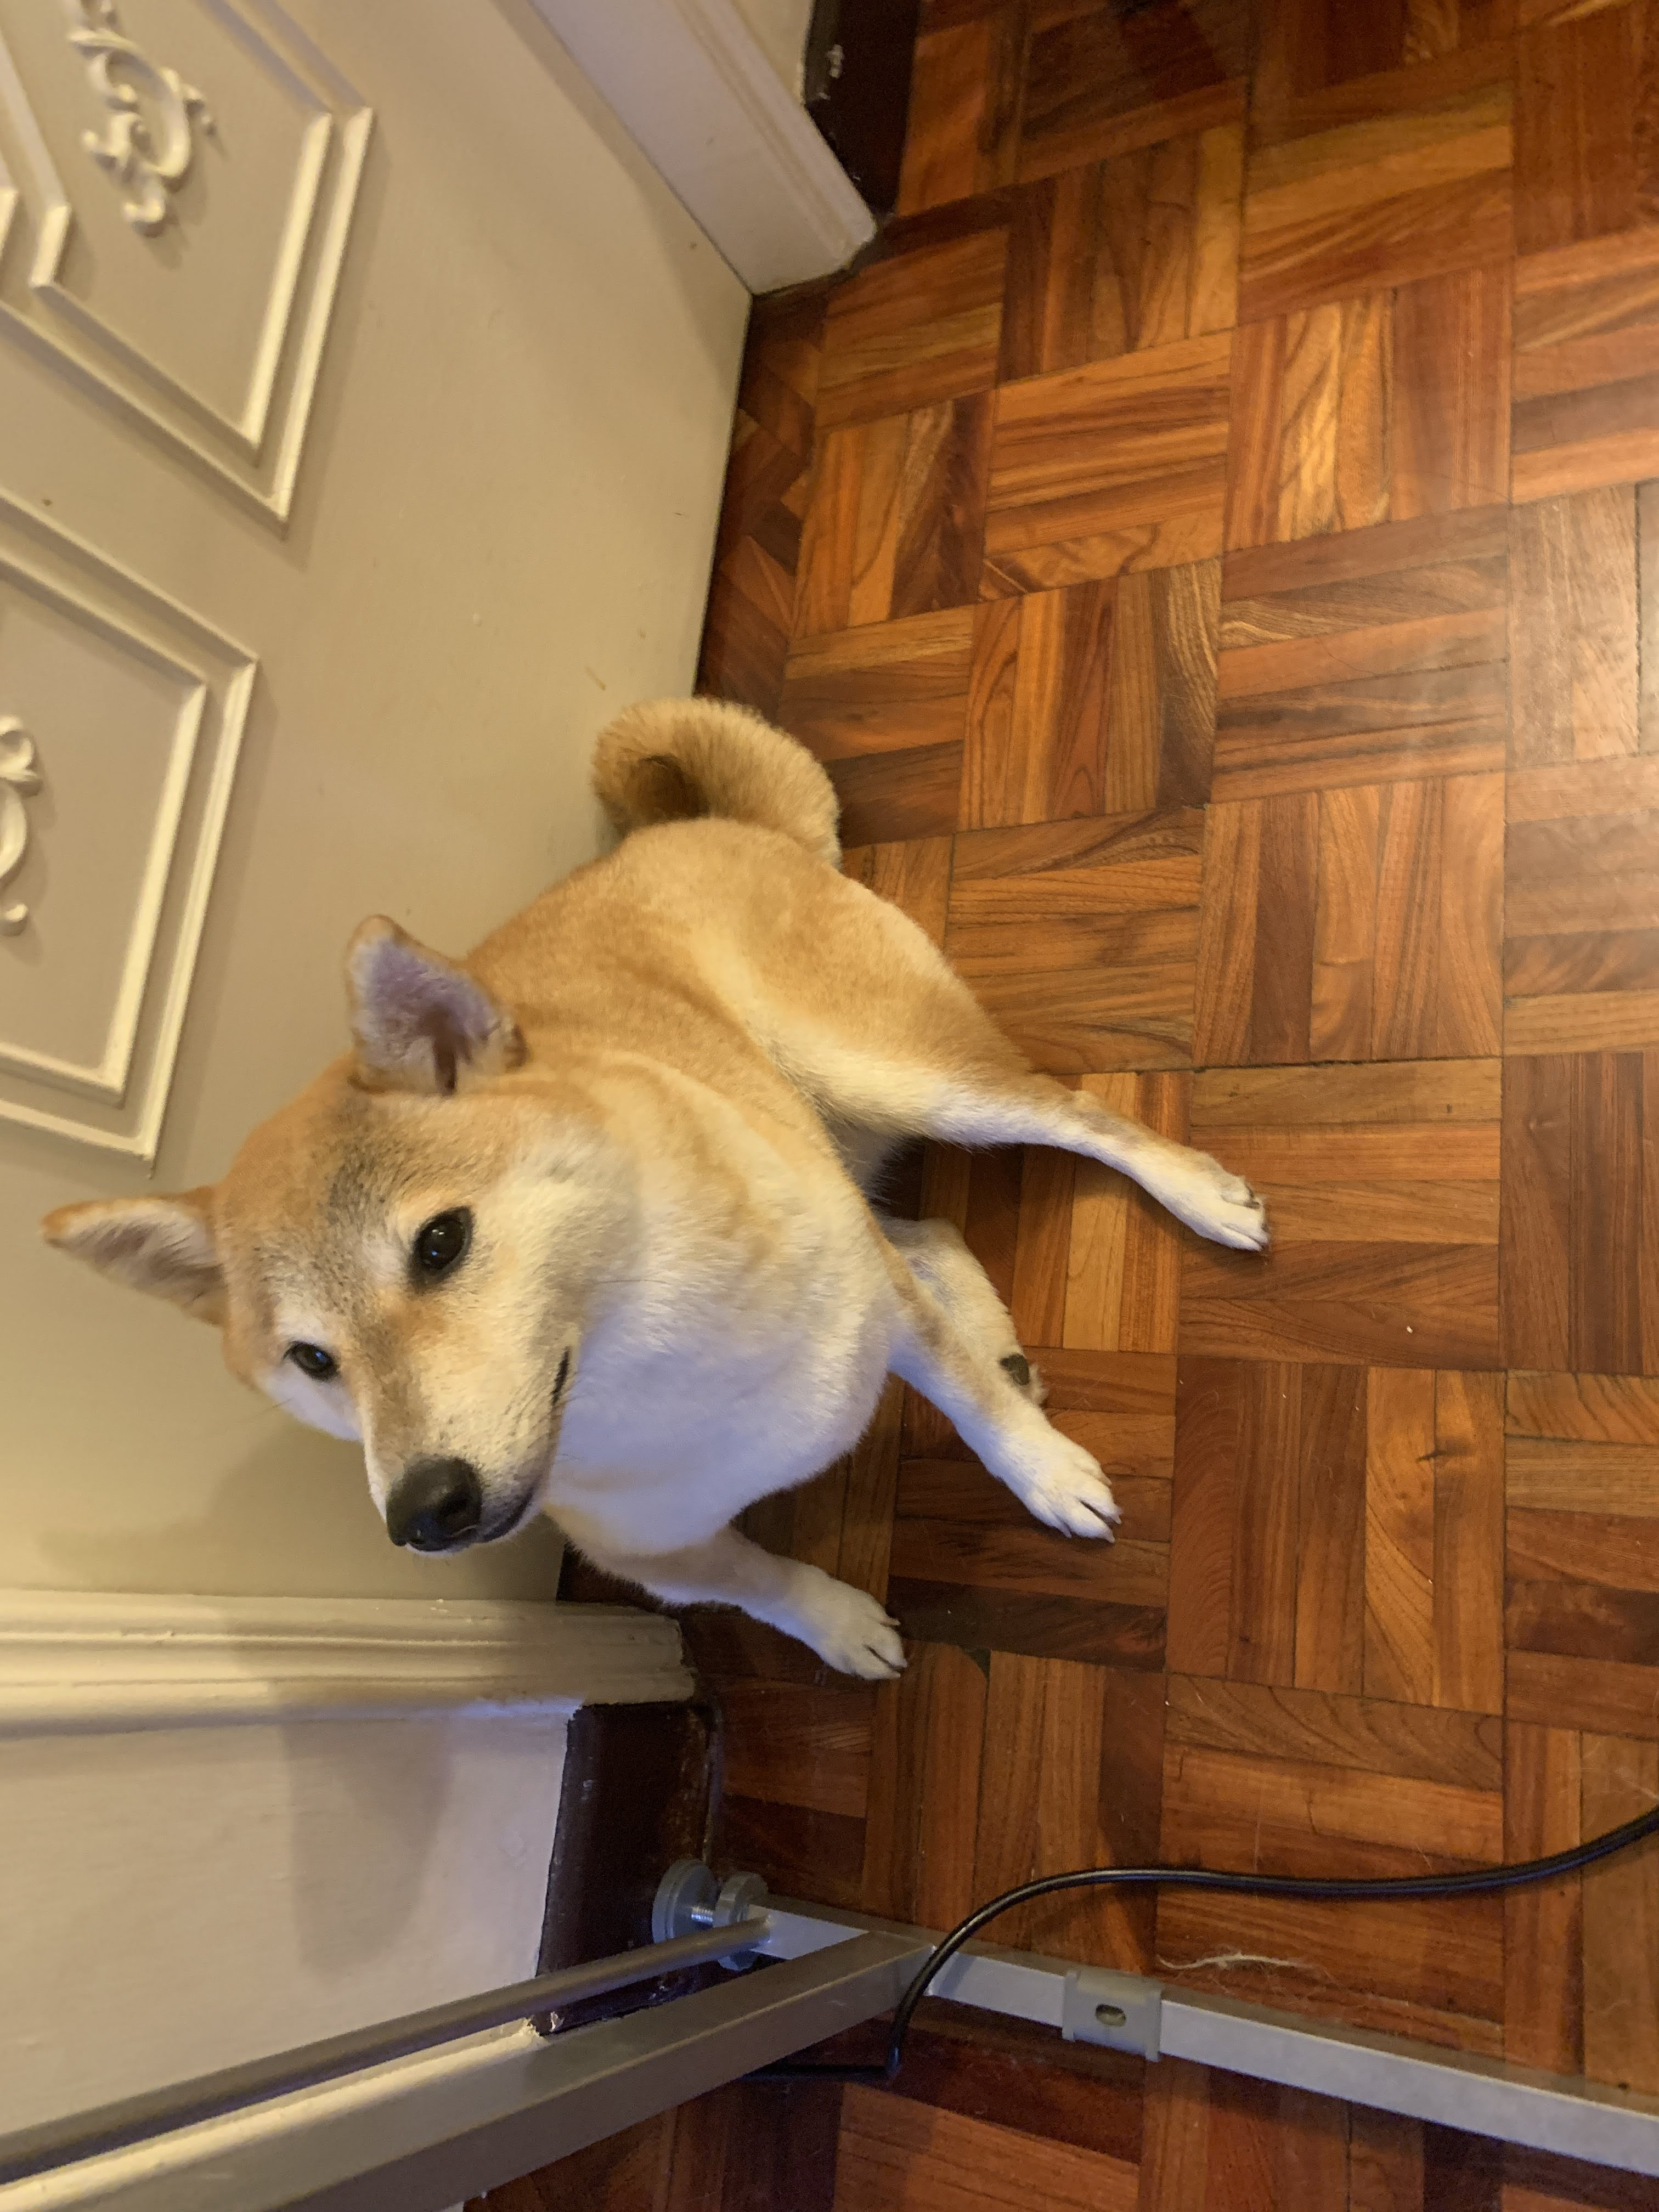Sit down: (82, 679, 1312, 1777)
